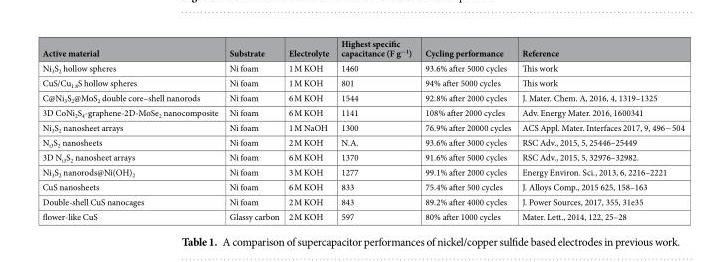table: (37, 36, 683, 222)
table column: (37, 36, 223, 222), (515, 36, 683, 222), (417, 36, 515, 222), (334, 36, 417, 222), (223, 36, 283, 222), (283, 36, 334, 222)
table column header: (37, 36, 683, 60)
table row: (37, 36, 683, 60), (37, 60, 683, 75), (37, 75, 683, 90), (37, 90, 683, 105), (37, 119, 683, 134), (37, 134, 683, 149), (37, 149, 683, 164), (37, 164, 683, 179), (37, 193, 683, 208), (37, 105, 683, 119), (37, 179, 683, 193), (37, 208, 683, 222)
